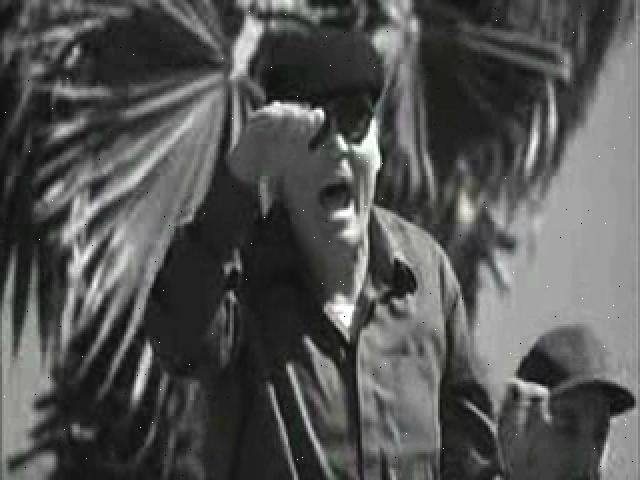T: (146, 27, 508, 479)
